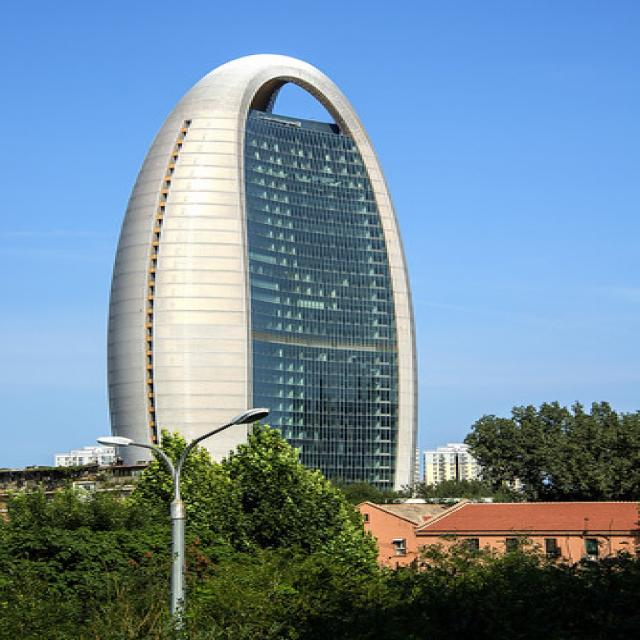Normal_building: (98, 48, 423, 504)
